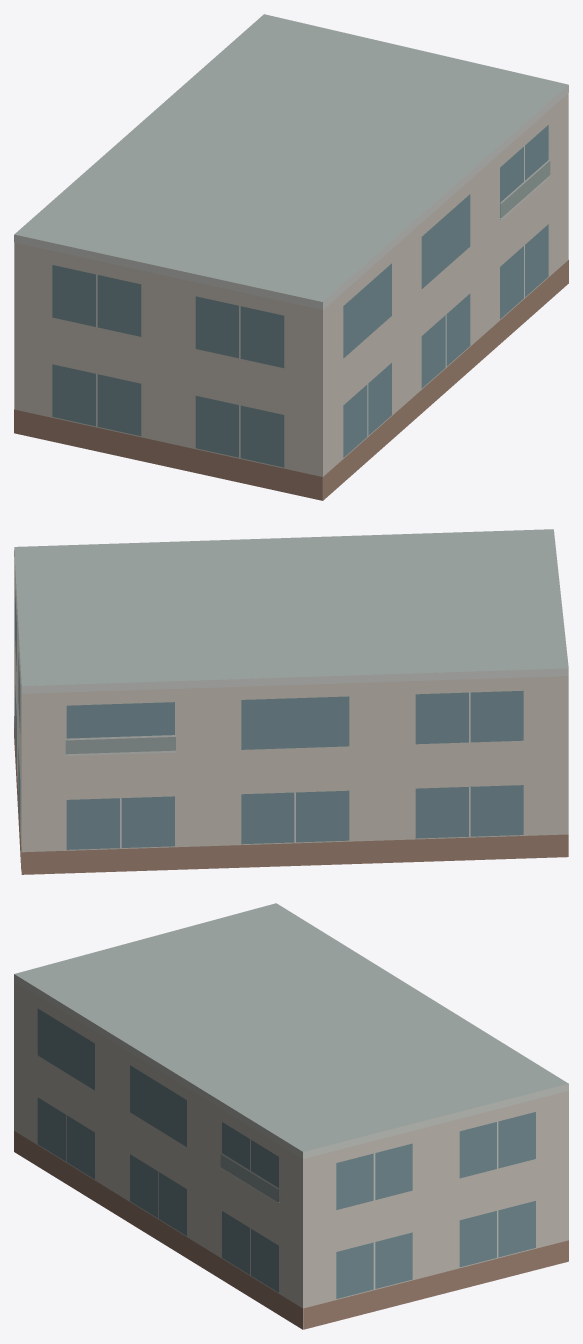
File: survey-upis-33031244.glb
3 views of the same model, one above another, from view 1: azimuth 30°, elevation 25°; view 2: azimuth 150°, elevation 25°; view 3: azimuth 270°, elevation 25° (orthographic). The views are drawn at different scales.
Visible parts, largest first — view 1: survey-upis-33031244.tmp; view 2: survey-upis-33031244.tmp; view 3: survey-upis-33031244.tmp.
Boxes of the visible parts, x1,y1,x2,y2 form: survey-upis-33031244.tmp: (14, 14, 568, 500); survey-upis-33031244.tmp: (14, 529, 568, 874); survey-upis-33031244.tmp: (14, 903, 568, 1329).
Bounding box in the file's own units: 18.31 × 6.1 × 17.25.
